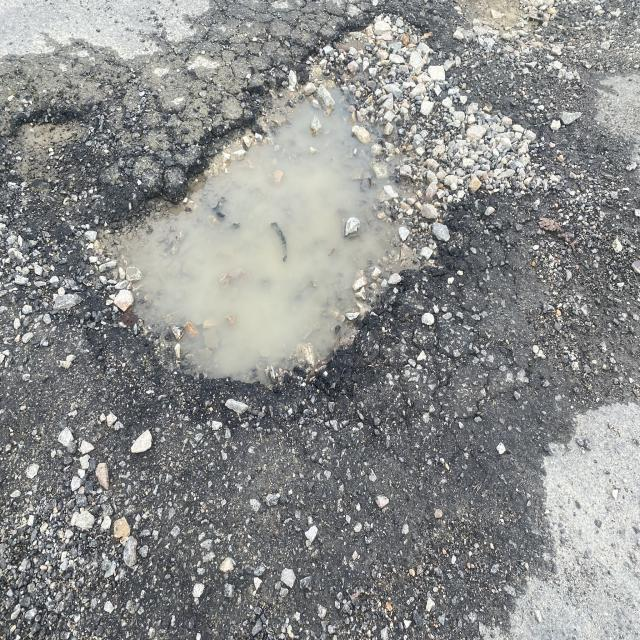Pothole: (29, 35, 552, 463)
